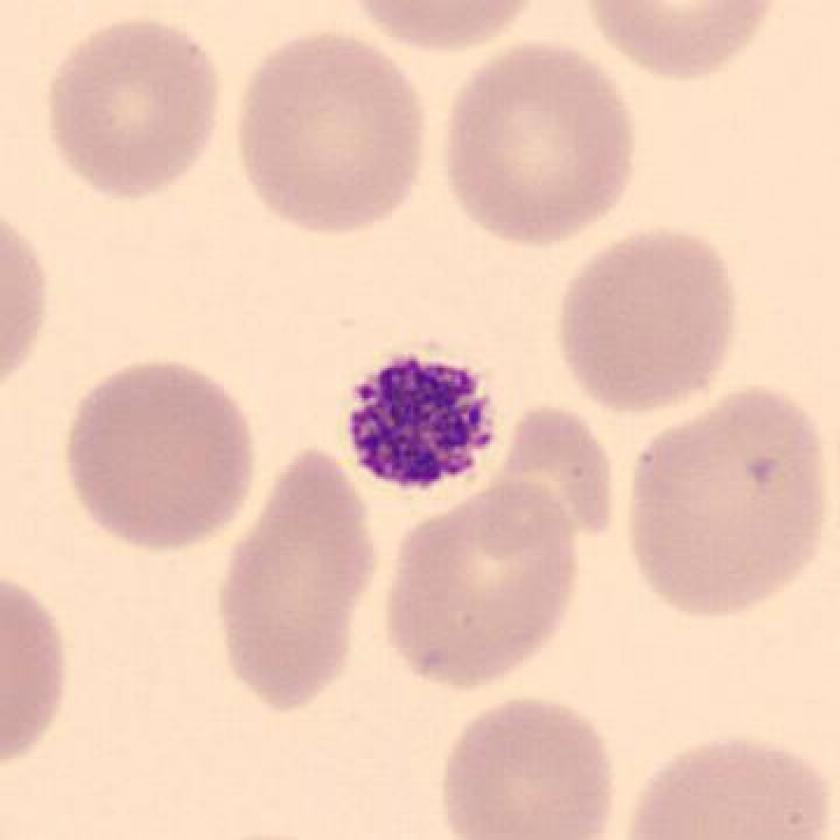platelets: (337, 346, 507, 501)
